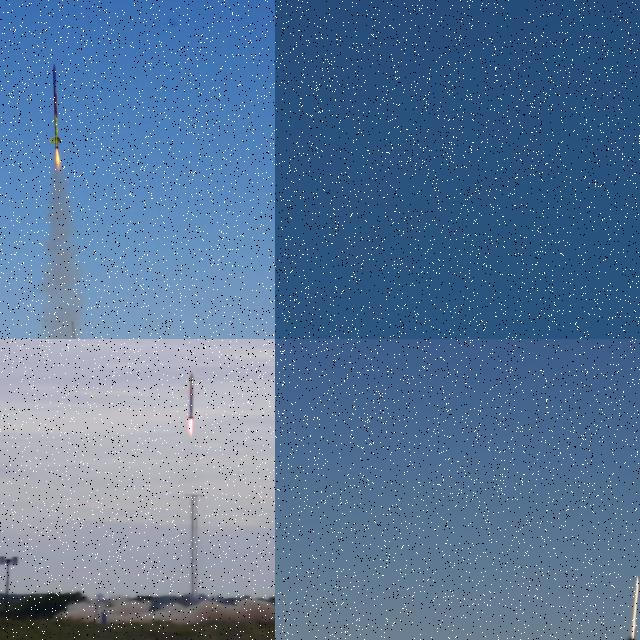Rocket: (624, 575, 640, 640), (50, 64, 62, 150), (187, 372, 195, 420)
